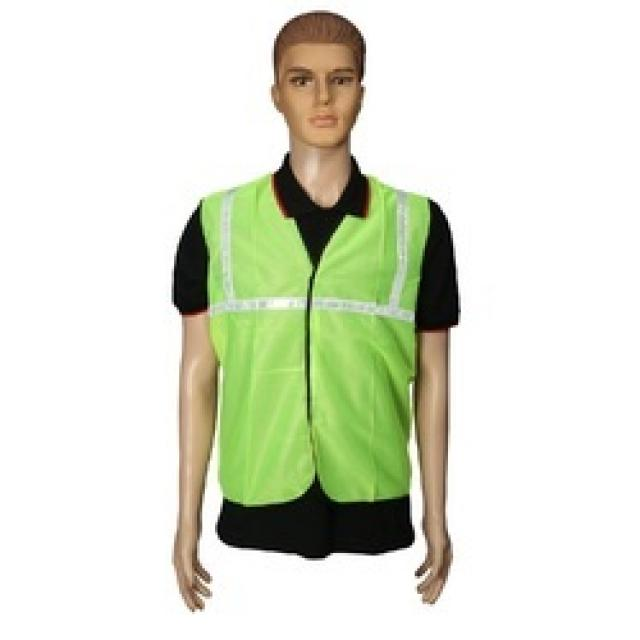Reflective-Jacket: (189, 174, 448, 515)
